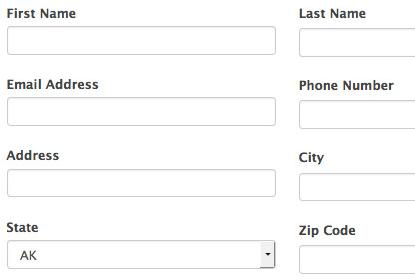field: (7, 25, 278, 57), (6, 168, 278, 199), (6, 97, 278, 127), (6, 239, 277, 269)
field_with_label: (5, 78, 281, 129), (5, 7, 280, 58), (5, 150, 280, 201), (4, 221, 279, 271)
